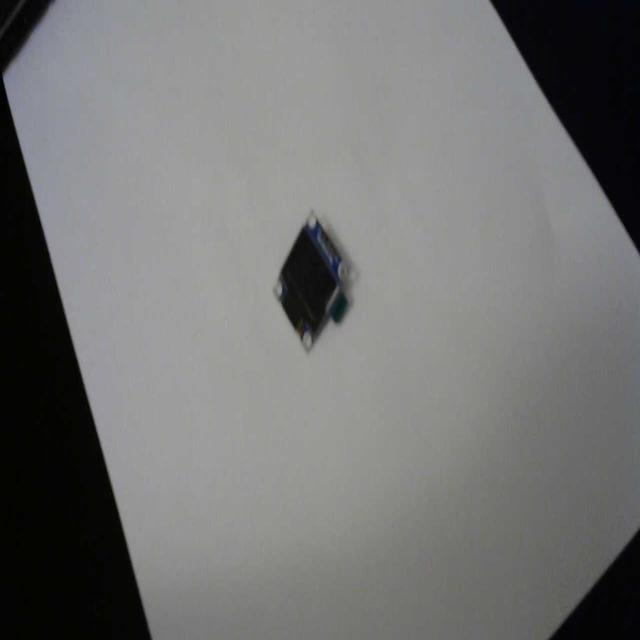oled: (274, 204, 356, 362)
